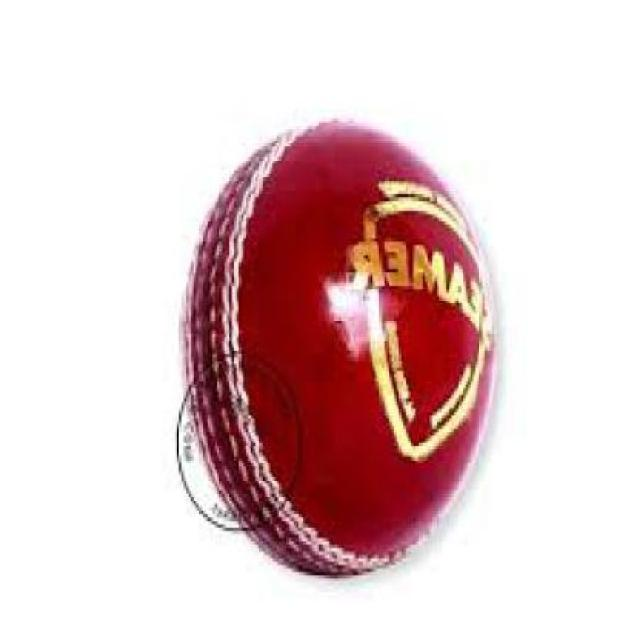ball: (118, 81, 538, 603)
